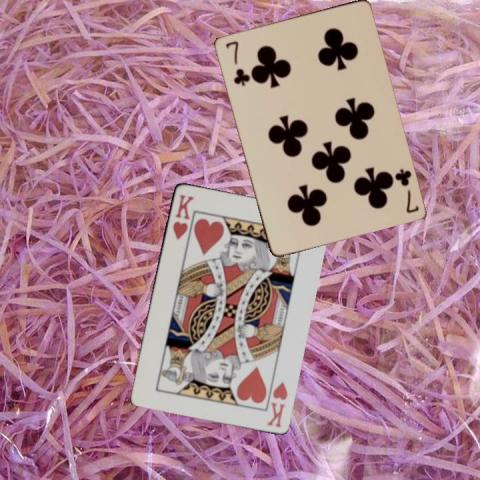7c: (391, 165, 420, 215), (222, 38, 249, 88)
Kh: (169, 191, 196, 241), (262, 378, 288, 429)
